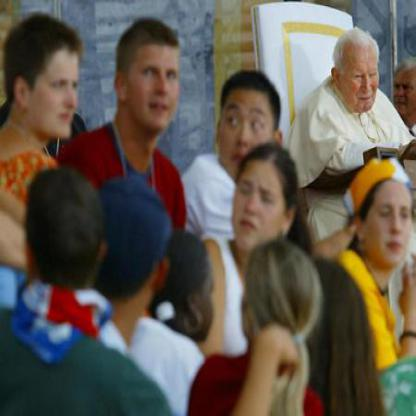face: (27, 19, 91, 143), (230, 142, 290, 259), (126, 23, 187, 131), (218, 73, 276, 181), (340, 38, 383, 114)
